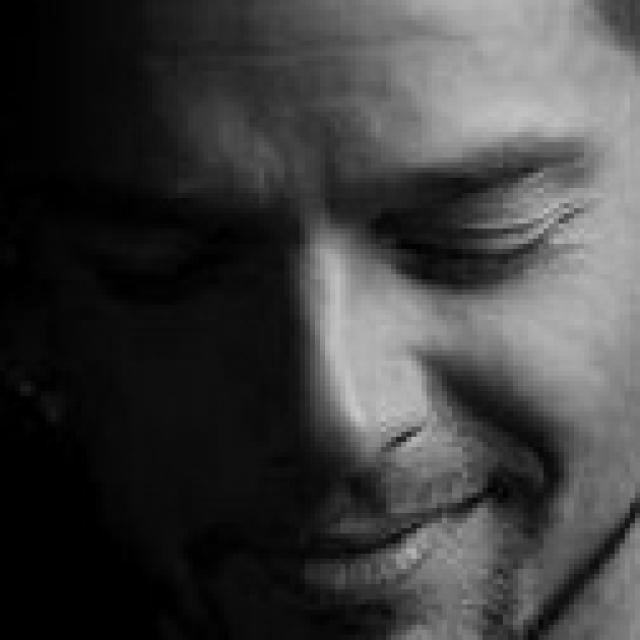real: (56, 31, 637, 625), (77, 140, 576, 306)
